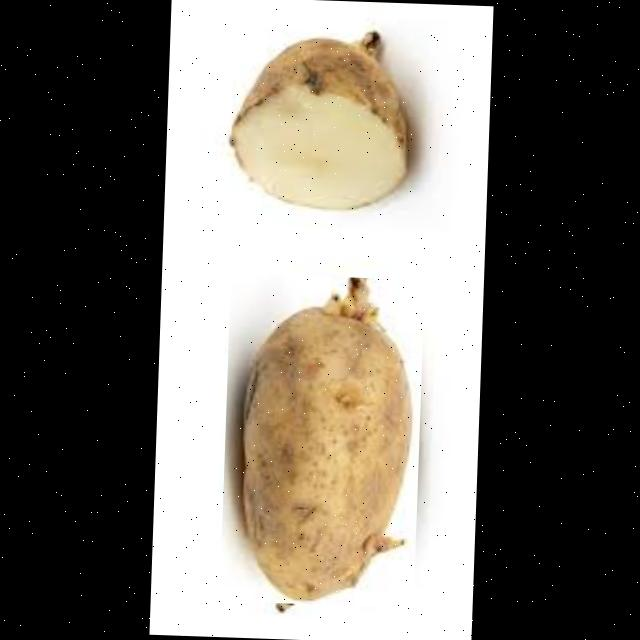Sprouted potato: (218, 272, 424, 608)
